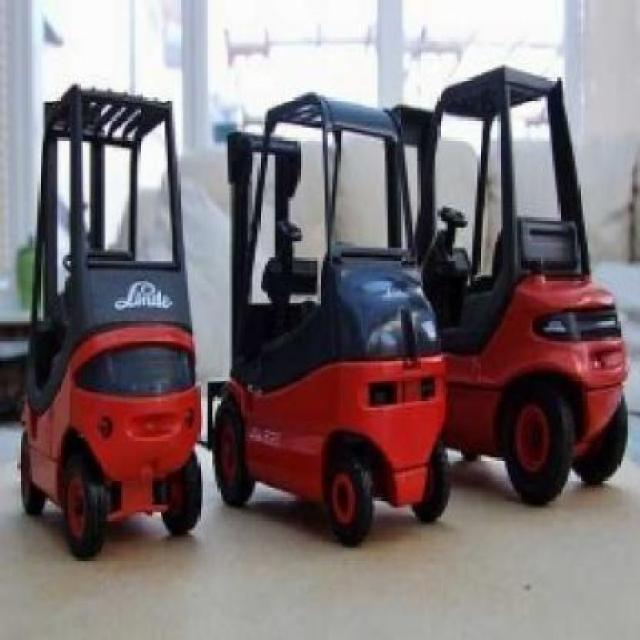forklift: (205, 90, 450, 546), (418, 62, 626, 507), (17, 83, 208, 560)
